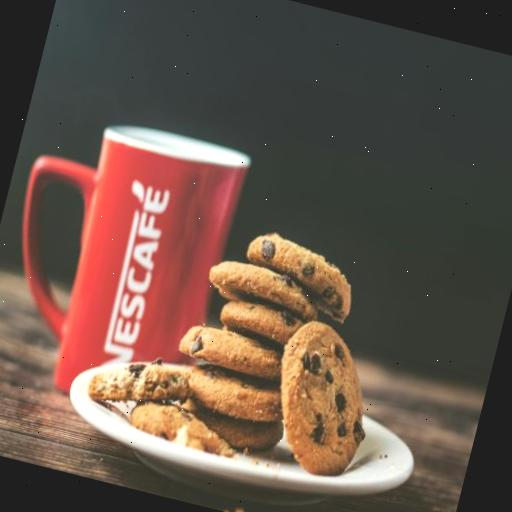cup: (0, 102, 253, 425)
